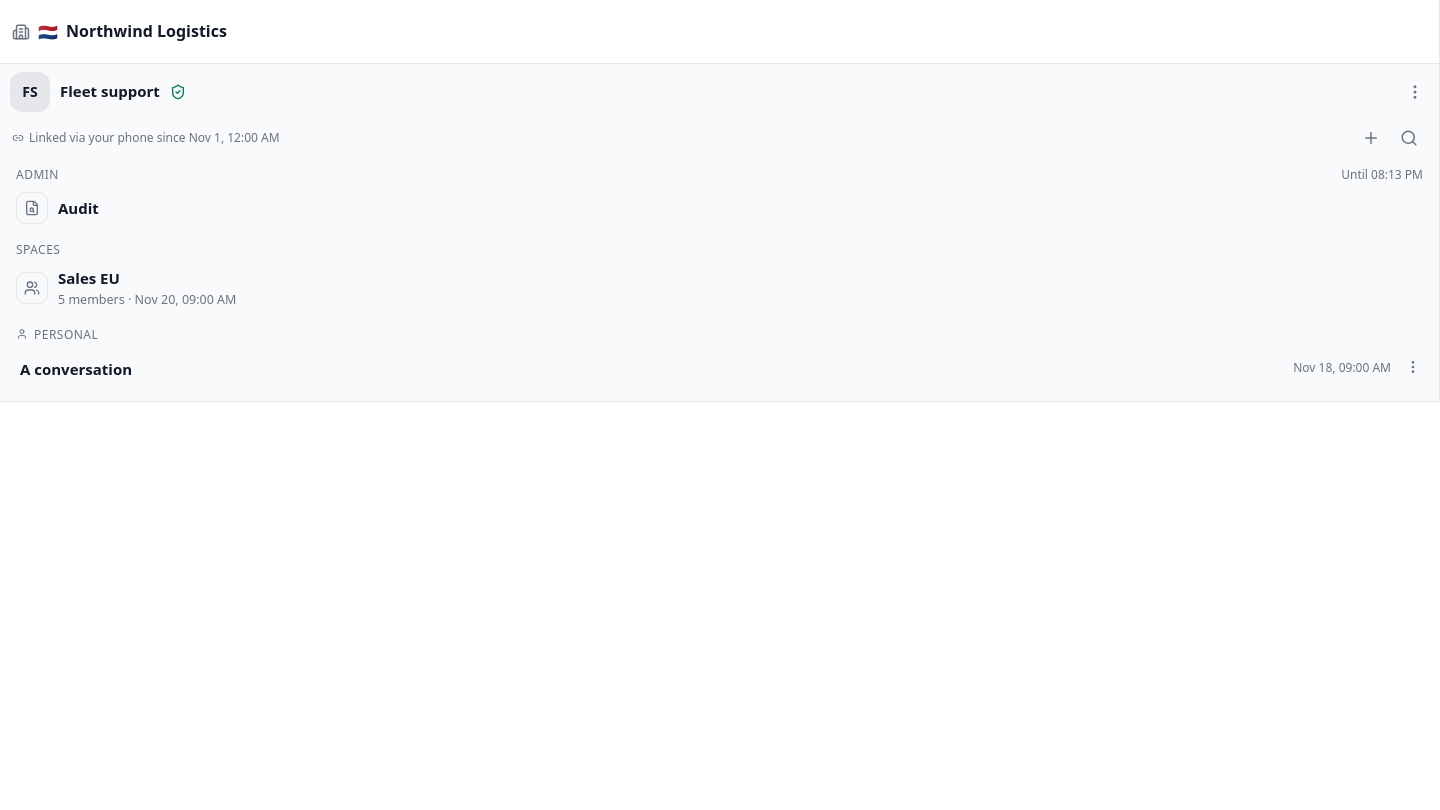
Scenario: the ADMIN area, exactly while the grant is open (UI-ADMIN-003) › hides itself at expiresAt by the browser clock, and the open Audit page closes with "Admin access ended"
The image size is (1440, 810).
Expected: the element with class "admin-area" is shown, [8,162,1431,231]
Step 1. Click the button with class "space-row" showing "Audit" → (32, 208), box [8,185,1431,231]
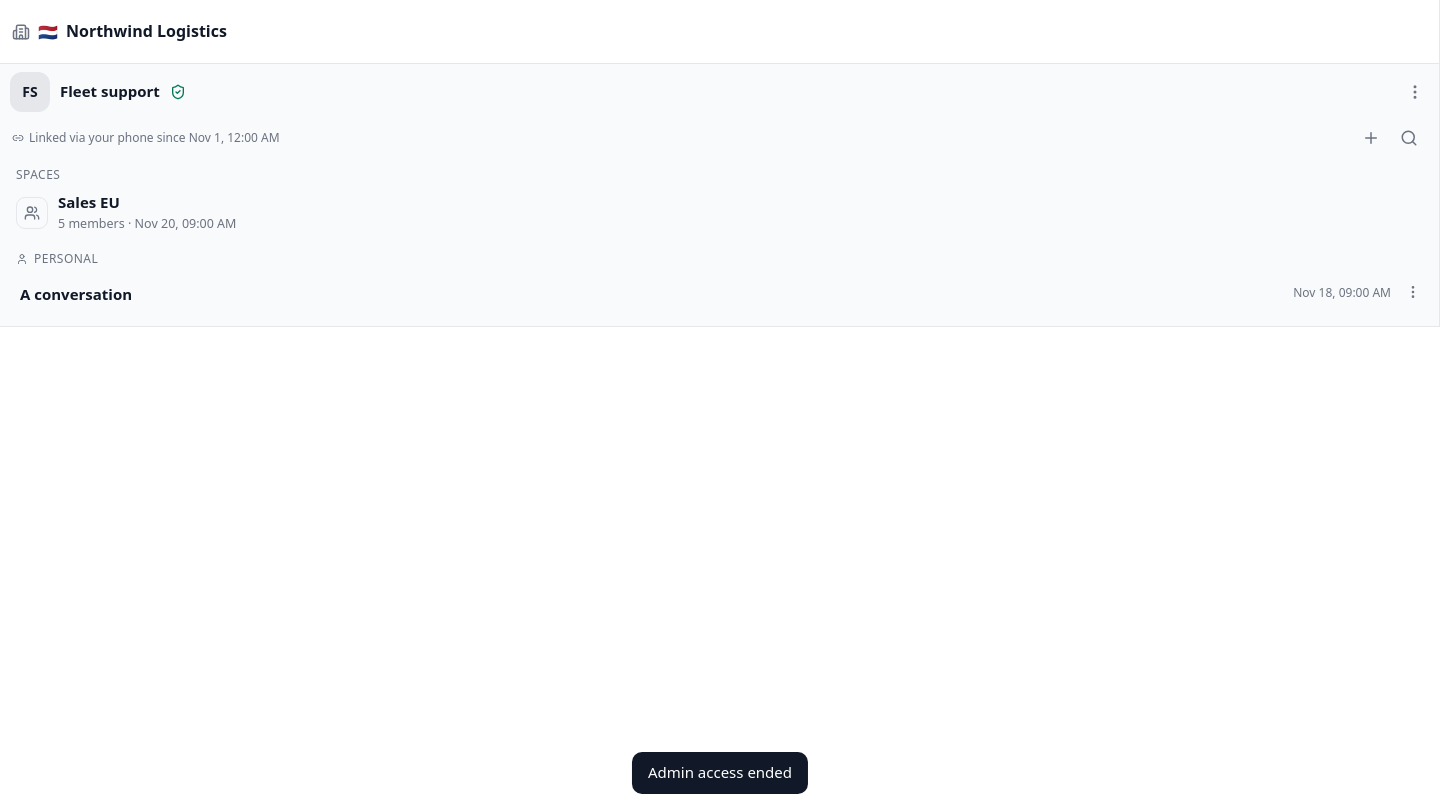
Now the message with class "toast" reads "Admin access ended", box [648,762,792,782]
